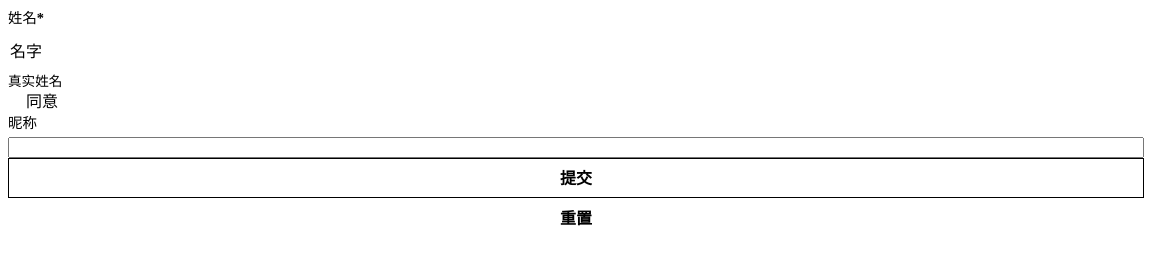
it: Form 集成 › 出错时控件 aria-invalid=true,error 容器 role=alert 且被 describedby 指向
Click the button "提交".
click(576, 178)  # box [8,158,1144,198]
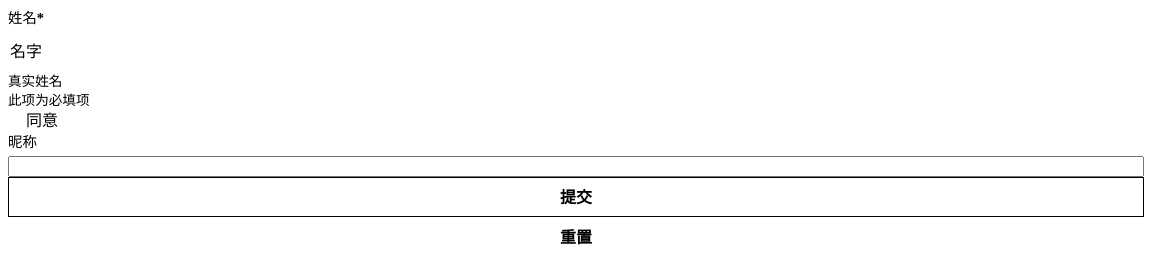
expect the message reads "此项为必填项": met, box [8,93,90,108]
